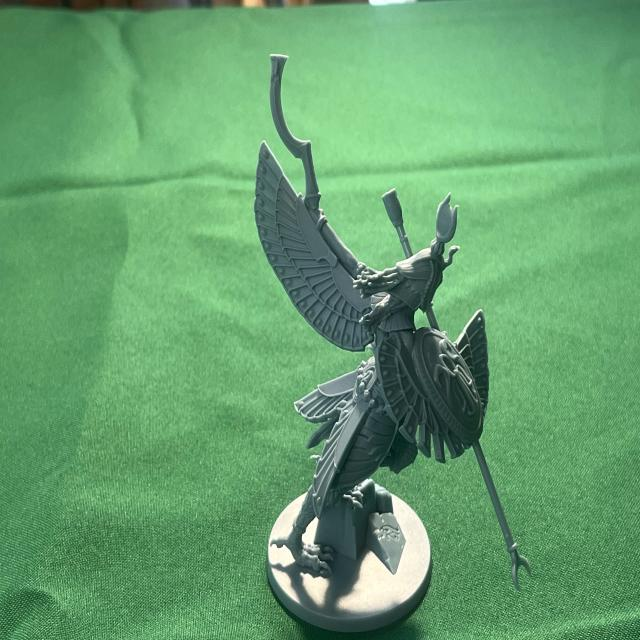isis: (239, 49, 540, 640)
